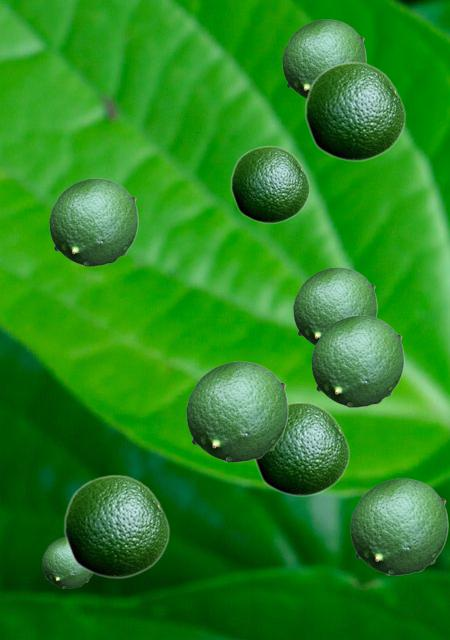calamansi: (63, 474, 169, 578), (304, 61, 405, 161), (186, 361, 287, 461), (350, 478, 447, 574), (254, 401, 349, 496), (311, 315, 403, 406), (49, 178, 137, 265), (282, 19, 365, 98), (293, 267, 376, 345), (230, 145, 309, 223), (42, 536, 92, 587)
